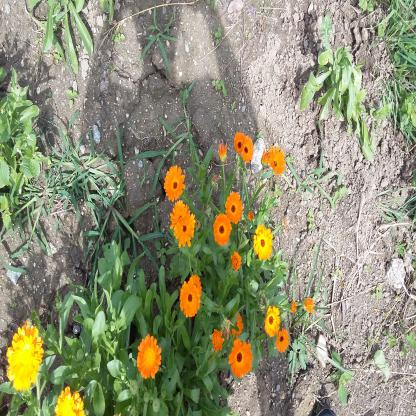marigold: (6, 326, 42, 388), (165, 165, 188, 200), (138, 337, 158, 376), (230, 342, 252, 374), (180, 281, 199, 317), (225, 192, 243, 223), (254, 227, 272, 256), (176, 218, 195, 245), (265, 307, 280, 338), (214, 215, 231, 242), (270, 146, 285, 174), (170, 202, 192, 221), (244, 136, 254, 161), (234, 132, 244, 156), (278, 331, 288, 352)
